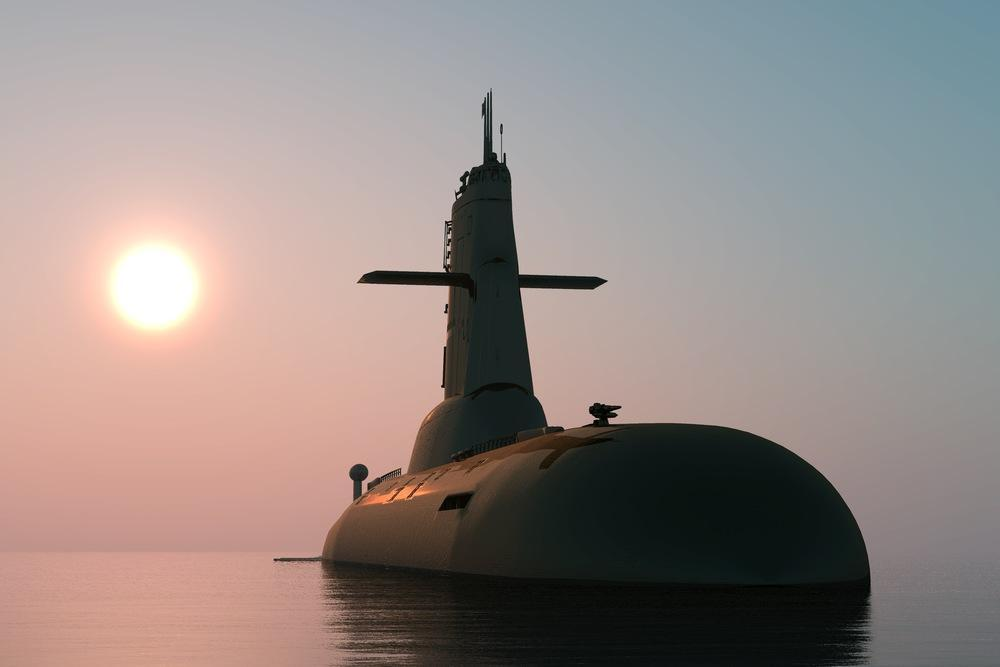Submarine: (213, 52, 918, 667)
